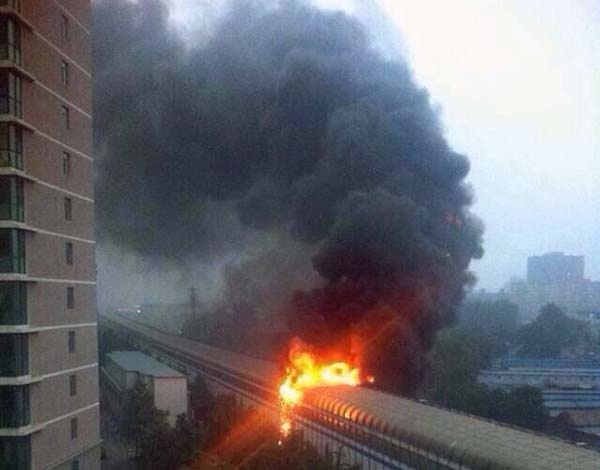fire: (273, 344, 366, 427)
